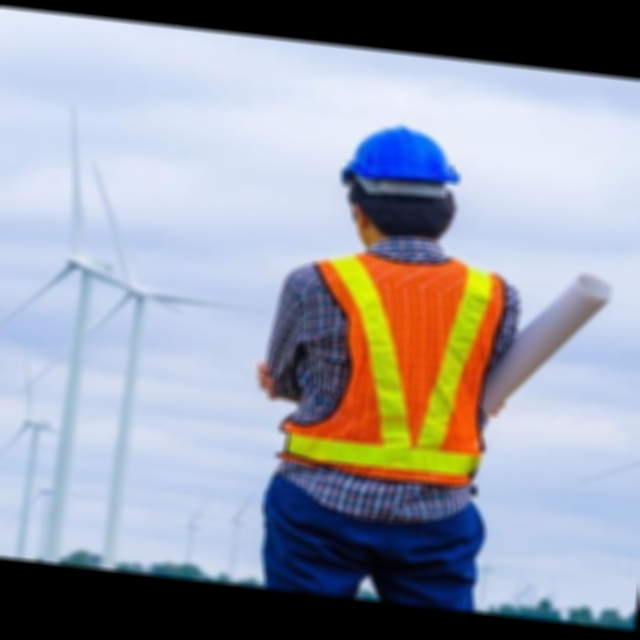Con_Casco: (332, 118, 470, 252)
Con_Chaleco: (278, 244, 514, 492)
